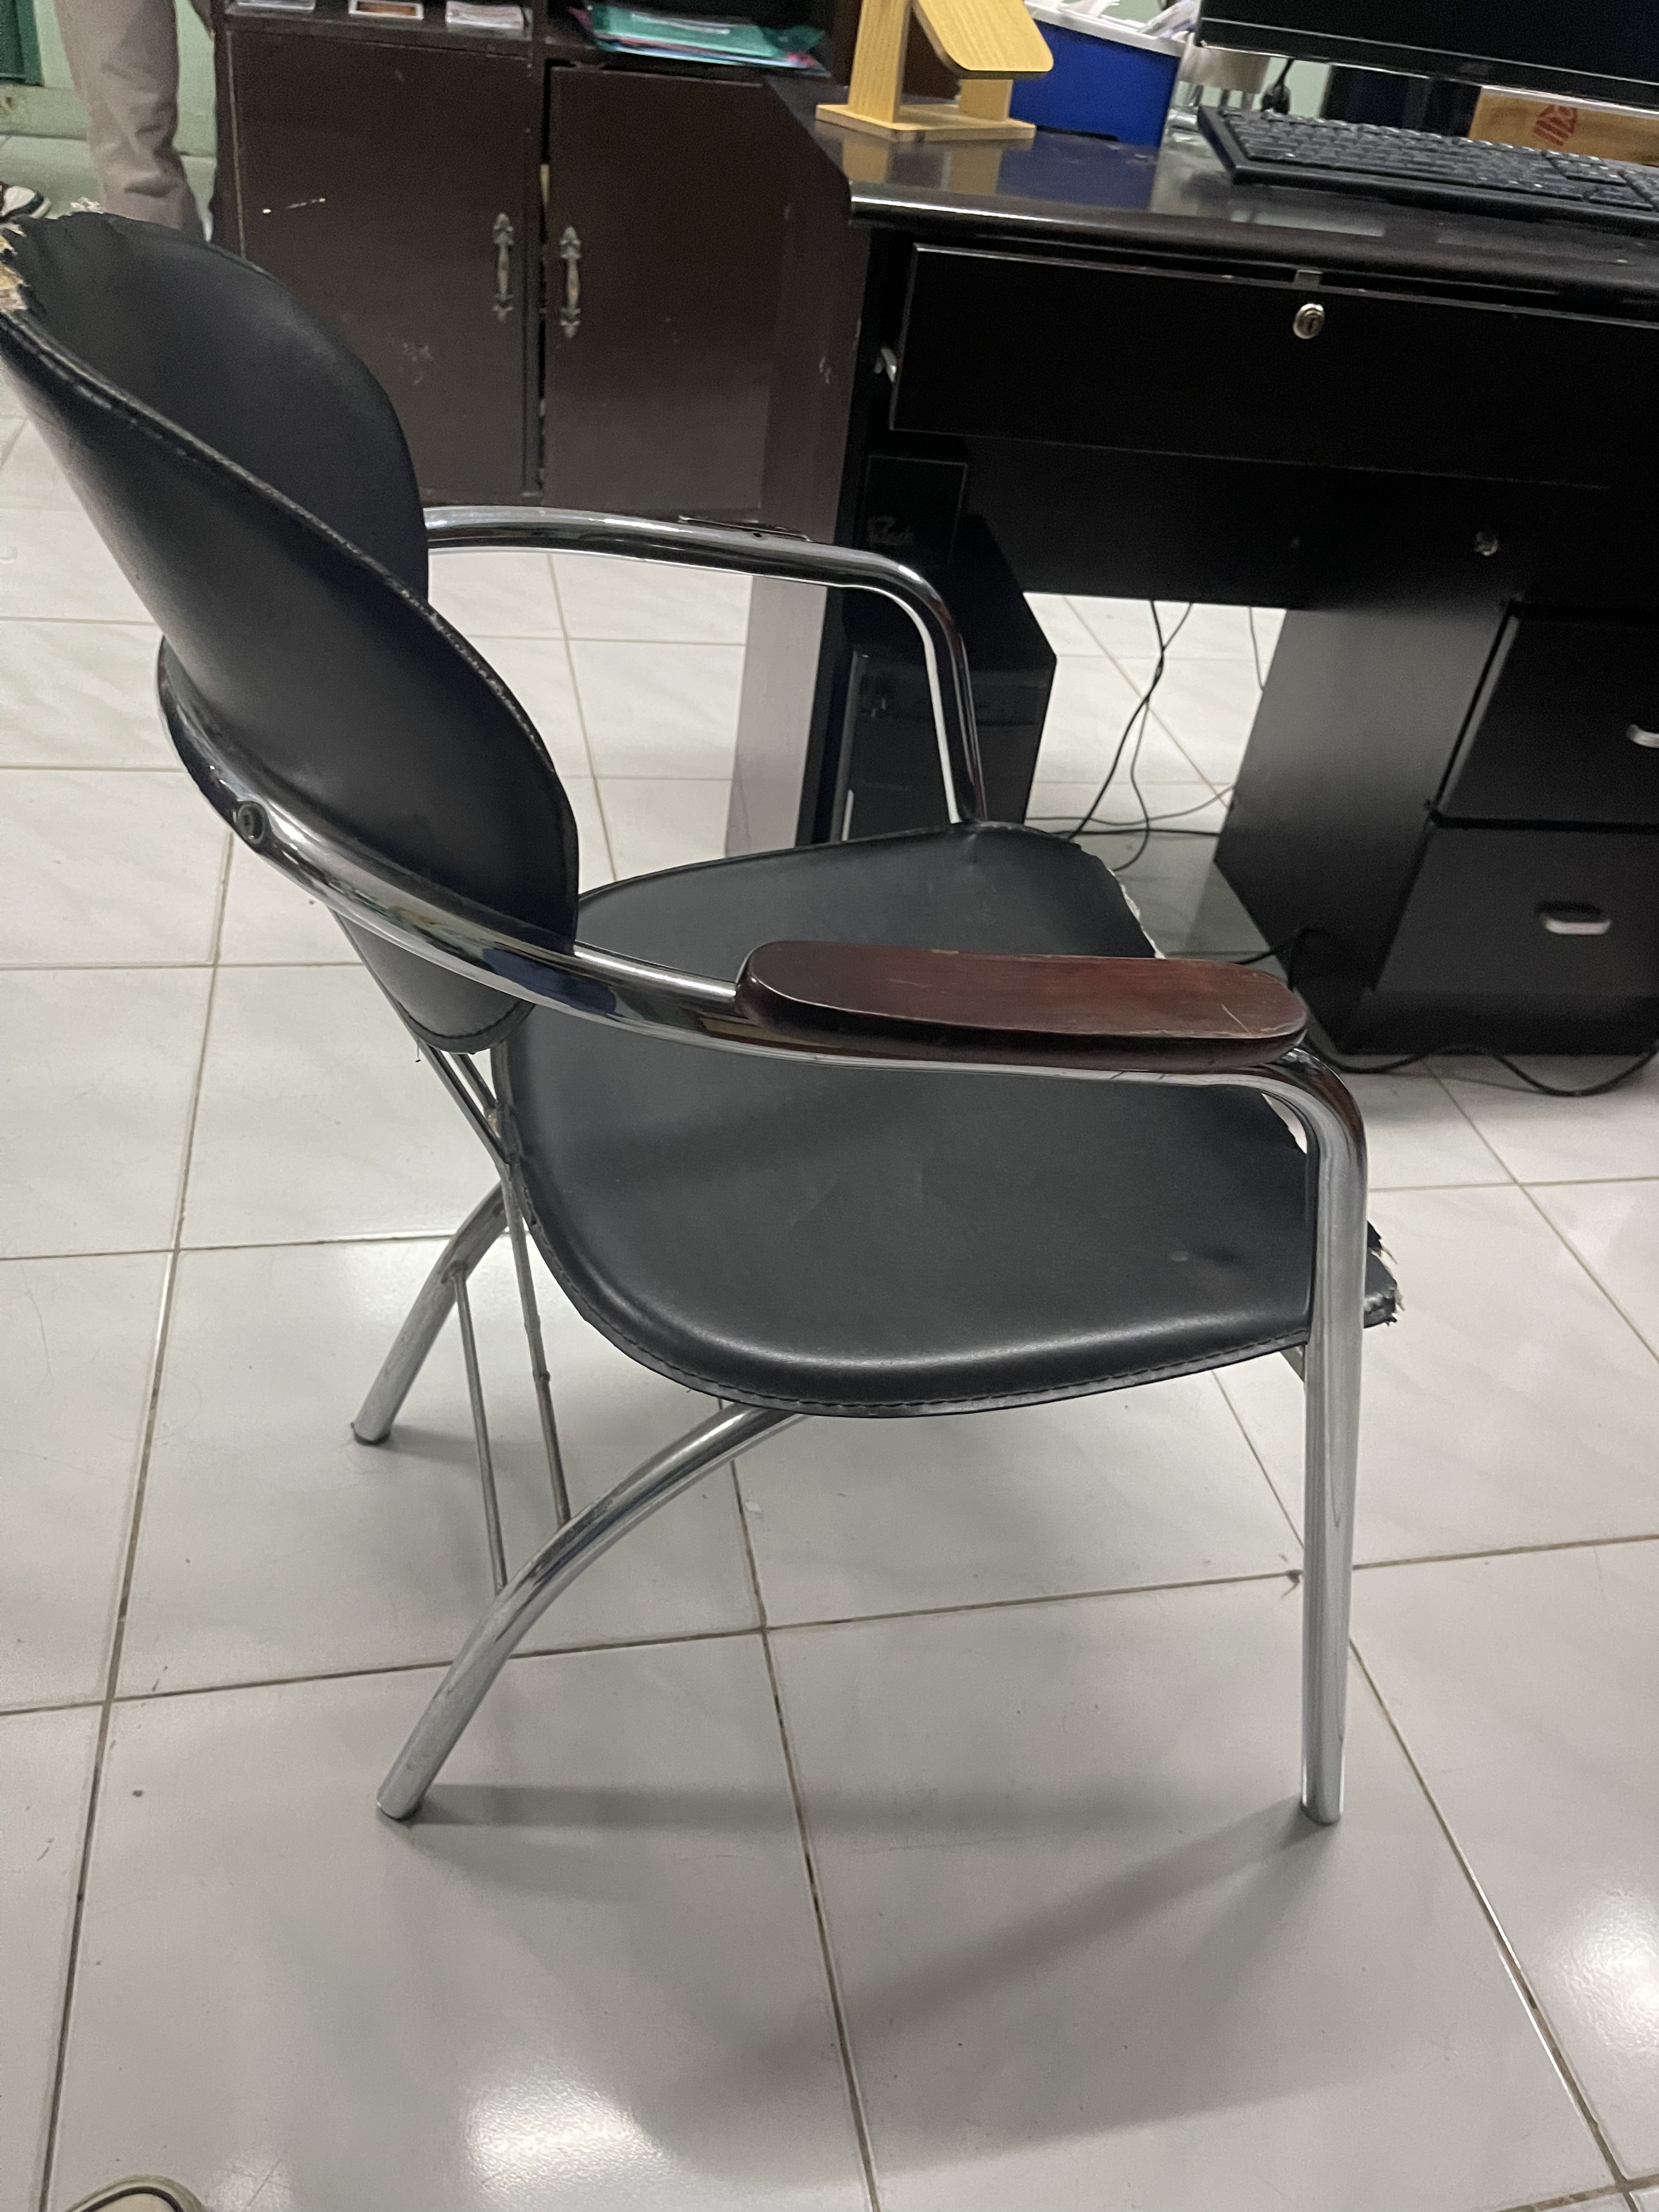chair1: (2, 219, 1412, 1860)
